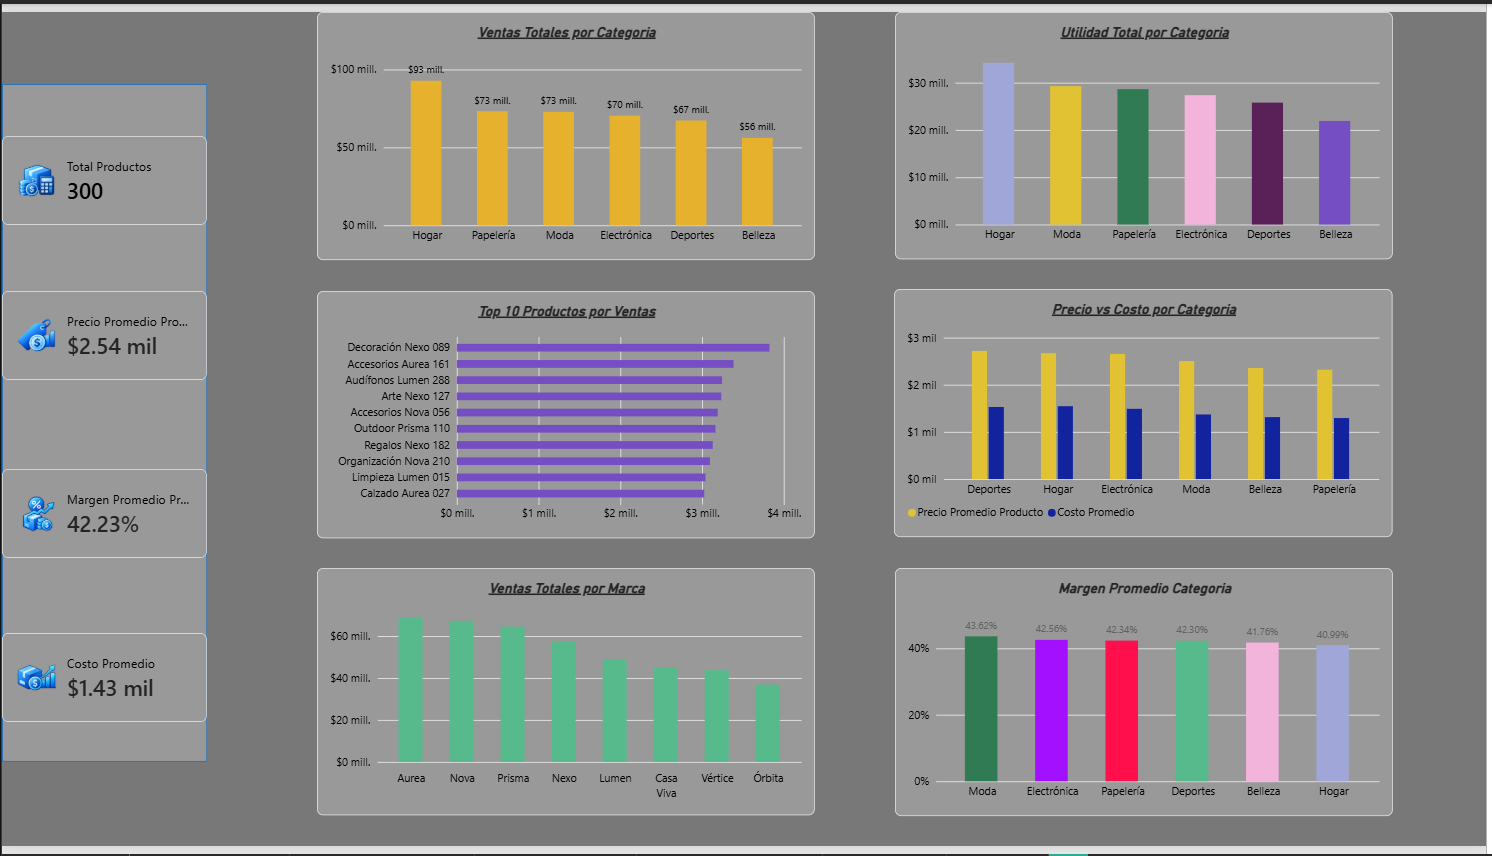

This screenshot's page, from the dashboard's own definition file:
{"tool":"powerbi","page":{"name":"🔜 Productos y Categorías","canvas":[1920,1080],"ordinal":3},"visuals":[{"type":"shape","box":[0,93.4,265.5,876.8],"z":0},{"type":"cardVisual","fields":{"Data":["Dim_Productos.Total Productos"]},"box":[0,160.5,265.5,115.3],"z":1000},{"type":"cardVisual","fields":{"Data":["Dim_Productos.Precio Promedio Producto"]},"box":[0,360.4,265,115],"z":2000},{"type":"cardVisual","fields":{"Data":["Dim_Productos.Costo Promedio"]},"box":[0,803.9,265,115],"z":3000},{"type":"cardVisual","fields":{"Data":["Dim_Productos.Margen Promedio Producto"]},"box":[0,590.9,265,115],"z":4000},{"type":"clusteredColumnChart","title":"Ventas Totales por Categoria","fields":{"Category":["Dim_Productos.Categoria"],"Y":["Fact_Ventas.ventas Totales"]},"box":[407.1,0,644,321],"z":5000},{"type":"clusteredBarChart","title":"Top 10 Productos por Ventas","fields":{"Category":["Dim_Productos.Producto"],"Y":["Fact_Ventas.ventas Totales"]},"box":[407.1,360.4,644,320],"z":6000},{"type":"clusteredColumnChart","title":"Ventas Totales por Marca","fields":{"Category":["Dim_Productos.Marca"],"Y":["Fact_Ventas.ventas Totales"]},"box":[407.1,719.3,644,320],"z":7000},{"type":"clusteredColumnChart","fields":{"Category":["Dim_Productos.Categoria"],"Y":["Fact_Ventas.Utilidad Total"]},"box":[1155.5,0,644,320],"z":8000},{"type":"clusteredColumnChart","title":"Precio vs Costo por Categoria","fields":{"Category":["Dim_Productos.Categoria"],"Y":["Dim_Productos.Precio Promedio Producto","Dim_Productos.Costo Promedio"]},"box":[1154,358.9,644.9,321],"z":9000},{"type":"clusteredColumnChart","title":"Margen Promedio Categoria","fields":{"Category":["Dim_Productos.Categoria"],"Y":["Dim_Productos.Margen Promedio Producto"]},"box":[1155.5,719.3,644,321],"z":10000}]}

Visuals, with their boxes in screenshot pixels (x1, y1, x2, y2), scaled from the page's 1920x1080 canvas onto the 1492x856 screenshot:
shape: Rect(0, 74, 206, 769)
cardVisual - Dim_Productos.Total Productos: Rect(0, 127, 206, 219)
cardVisual - Dim_Productos.Precio Promedio Producto: Rect(0, 286, 206, 377)
cardVisual - Dim_Productos.Costo Promedio: Rect(0, 637, 206, 728)
cardVisual - Dim_Productos.Margen Promedio Producto: Rect(0, 468, 206, 559)
"Ventas Totales por Categoria" clusteredColumnChart: Rect(316, 0, 817, 254)
"Top 10 Productos por Ventas" clusteredBarChart: Rect(316, 286, 817, 539)
"Ventas Totales por Marca" clusteredColumnChart: Rect(316, 570, 817, 824)
clusteredColumnChart - Dim_Productos.Categoria x Fact_Ventas.Utilidad Total: Rect(898, 0, 1398, 254)
"Precio vs Costo por Categoria" clusteredColumnChart: Rect(897, 284, 1398, 539)
"Margen Promedio Categoria" clusteredColumnChart: Rect(898, 570, 1398, 825)
